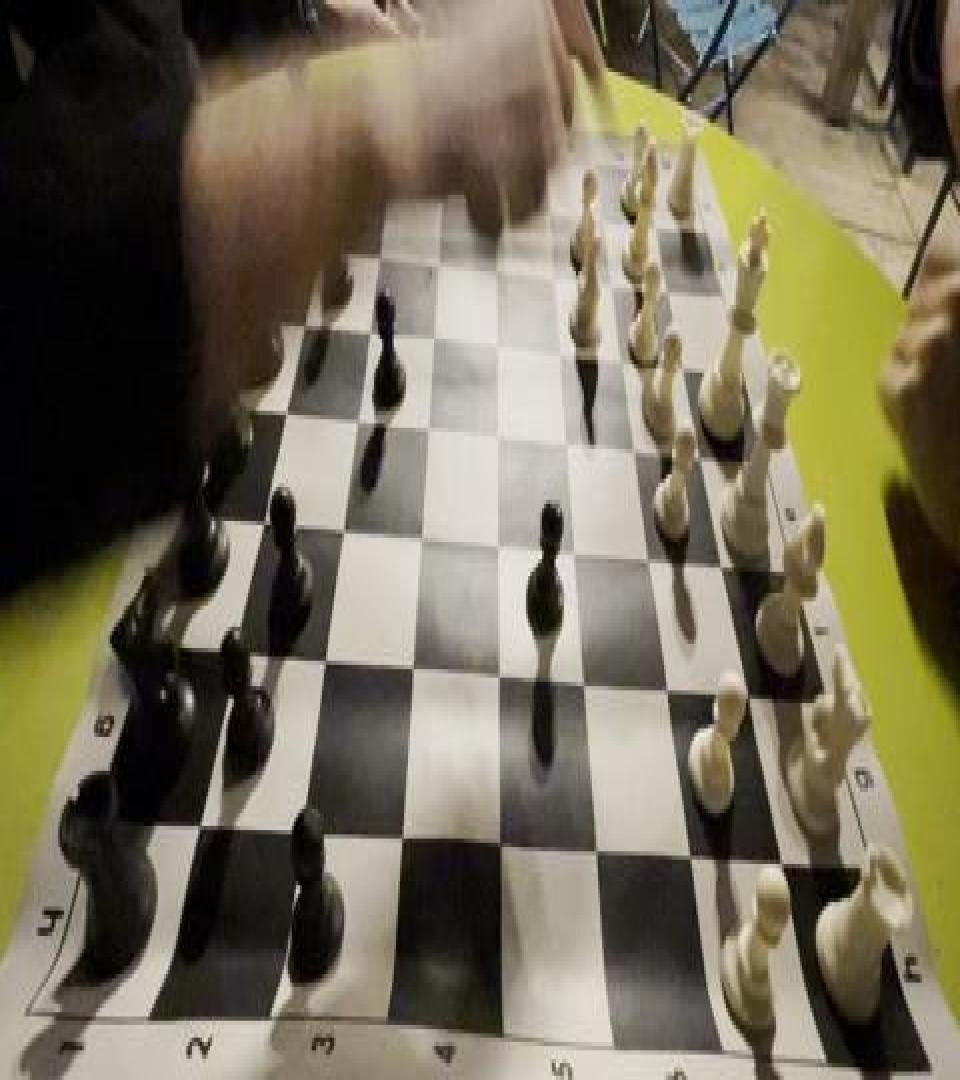xcorner: (187, 777, 207, 820), (388, 794, 408, 837), (485, 800, 505, 843), (677, 815, 697, 858), (312, 620, 332, 663), (485, 635, 505, 678), (654, 650, 674, 693), (331, 489, 351, 532), (485, 506, 505, 549), (561, 512, 581, 555), (710, 527, 730, 570), (346, 385, 366, 428), (485, 400, 505, 443), (689, 423, 709, 466), (294, 292, 314, 335), (485, 313, 505, 356), (610, 328, 630, 371), (310, 220, 330, 263), (485, 241, 505, 284), (600, 256, 620, 299), (378, 167, 398, 210), (538, 186, 558, 229), (643, 201, 663, 244), (288, 786, 308, 828), (582, 809, 602, 851), (771, 824, 791, 866), (224, 612, 244, 654), (399, 627, 419, 669), (570, 644, 590, 686), (737, 659, 757, 701), (252, 483, 272, 525), (409, 498, 429, 540), (636, 521, 656, 563), (275, 377, 295, 419), (416, 394, 436, 436), (554, 409, 574, 451), (622, 415, 642, 457), (358, 299, 378, 341), (422, 307, 442, 349), (548, 322, 568, 364), (671, 335, 691, 377), (369, 229, 389, 271), (427, 235, 447, 277), (543, 248, 563, 290), (656, 263, 676, 305), (323, 161, 343, 203), (432, 174, 452, 216), (485, 180, 505, 222), (591, 193, 611, 235)
